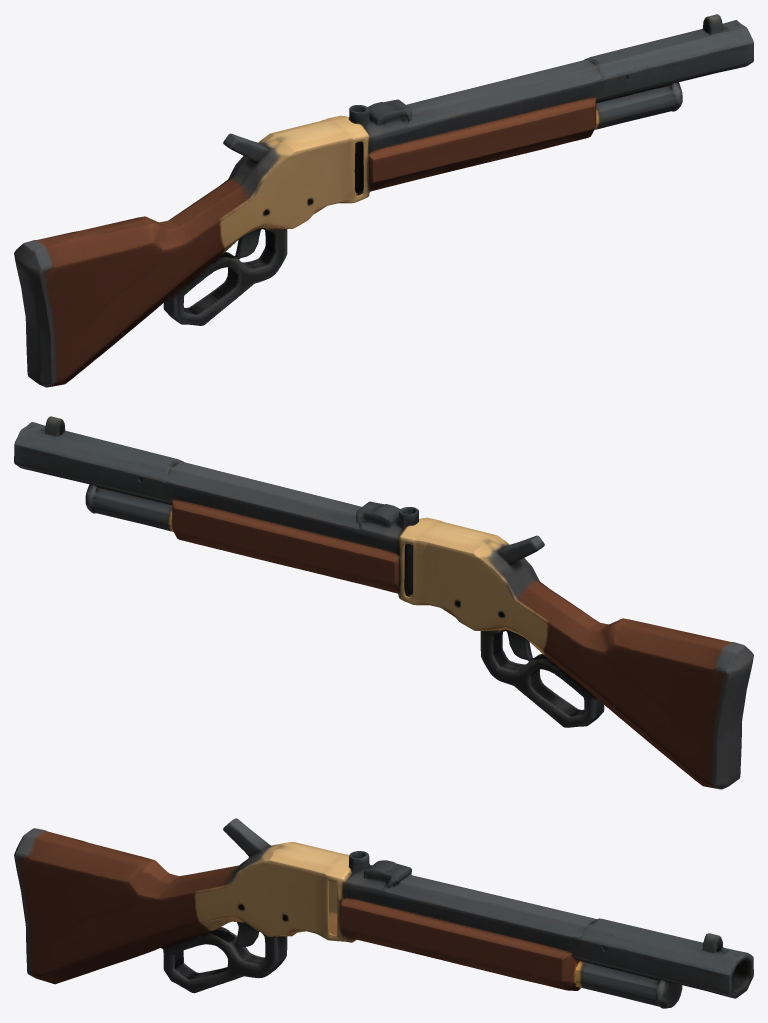
The model's file is lever_action_rifle_low.glb.
3 renders of one model, top to bottom at view 1: azimuth 30°, elevation 25°; view 2: azimuth 150°, elevation 25°; view 3: azimuth 330°, elevation 25°, orthographic.
Parts seen in each view (by area): view 1: world; view 2: world; view 3: world.
Boxes of the visible parts, x1=… form: world: x1=14, y1=14, x2=753, y2=387; world: x1=14, y1=416, x2=753, y2=789; world: x1=14, y1=818, x2=753, y2=1008.
Size of the model in its own units: 1 by 0.2731 by 0.079.
Materials: 1 (1 with a texture image).
